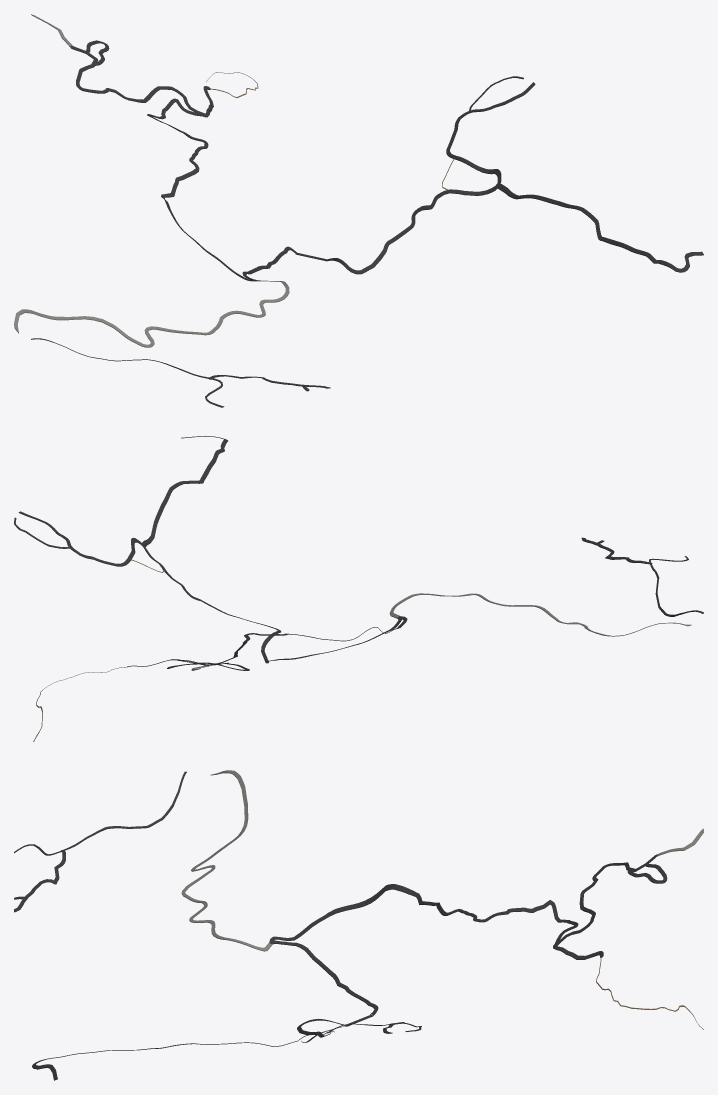
3 views of the same model, one above another, from view 1: azimuth 30°, elevation 25°; view 2: azimuth 150°, elevation 25°; view 3: azimuth 270°, elevation 25° (orthographic). The views are drawn at different scales.
Size of the model in its own units: 1174 by 265 by 1166.
